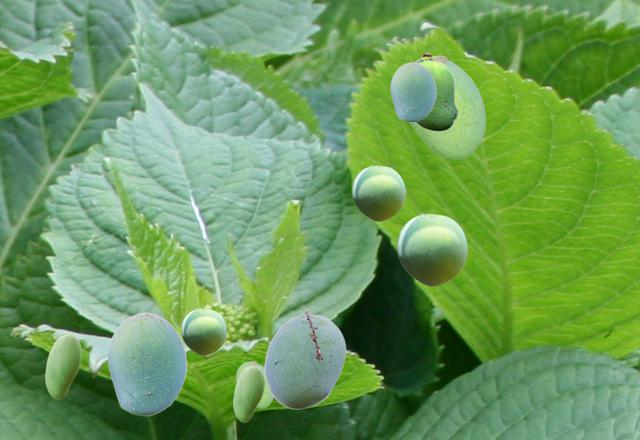green_mango: (107, 312, 186, 415), (264, 309, 345, 408), (409, 55, 484, 158), (397, 213, 466, 285), (415, 53, 457, 130), (352, 165, 404, 220), (390, 62, 435, 121), (45, 334, 80, 398), (181, 308, 225, 354), (236, 361, 273, 407), (233, 366, 263, 421)
